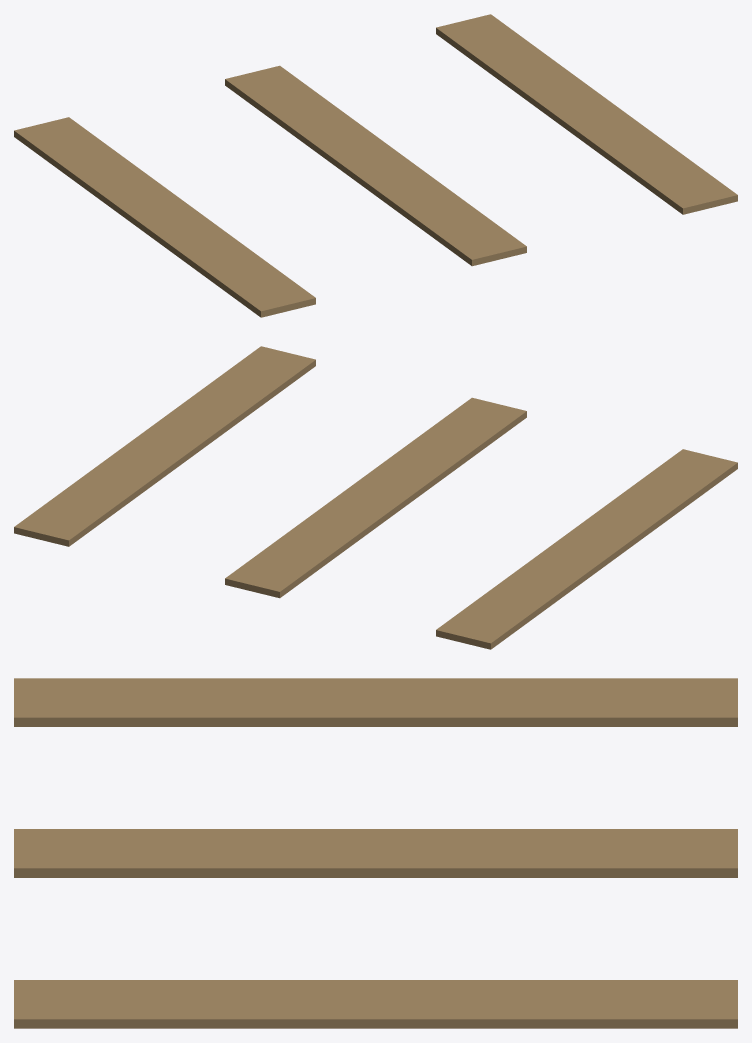
Rendered from yong-ground-LOD2.glb.
3 renders of one model, top to bottom at view 1: azimuth 30°, elevation 25°; view 2: azimuth 150°, elevation 25°; view 3: azimuth 270°, elevation 25°, orthographic. The views are drawn at different scales.
Parts seen in each view (by area): view 1: yong_ground_C; view 2: yong_ground_C; view 3: yong_ground_C.
Part boxes in pixels (x1,y1,x2,y2): yong_ground_C: (14, 14, 737, 317); yong_ground_C: (14, 346, 737, 649); yong_ground_C: (14, 678, 737, 1028).
Bounding box in the file's own units: 15.6 × 0.2 × 14.
